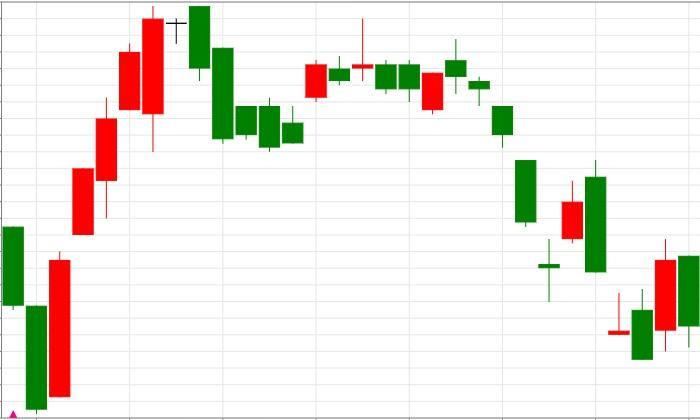evening_star_fall: (25, 5, 210, 414)
